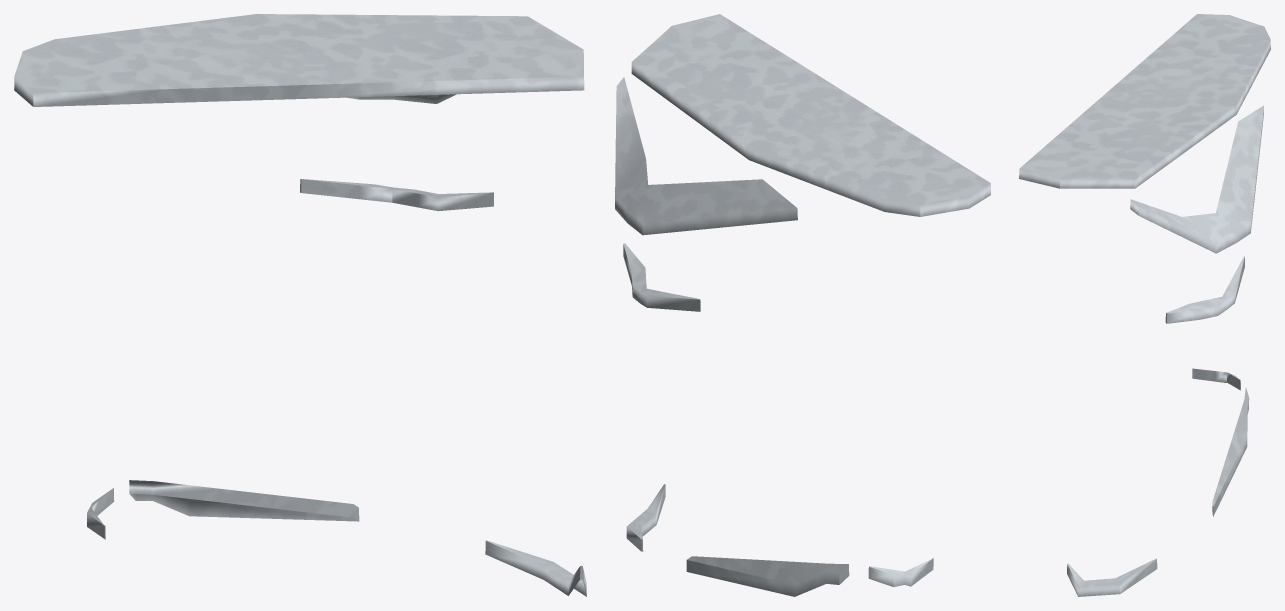
The model's file is Cliff_6_Snow.fbx.
The picture shows the model from 3 angles, left to right: view 1: azimuth 30°, elevation 25°; view 2: azimuth 150°, elevation 25°; view 3: azimuth 270°, elevation 25°; orthographic projection. The views are drawn at different scales.
Visible parts, largest first — view 1: Cliff_6_Snow; view 2: Cliff_6_Snow; view 3: Cliff_6_Snow.
Boxes of the visible parts, bbox=[...] form: Cliff_6_Snow: bbox=[14, 14, 586, 596]; Cliff_6_Snow: bbox=[615, 14, 990, 596]; Cliff_6_Snow: bbox=[1019, 14, 1270, 596].
Bounding box in the file's own units: 2888 × 3268 × 1806.
